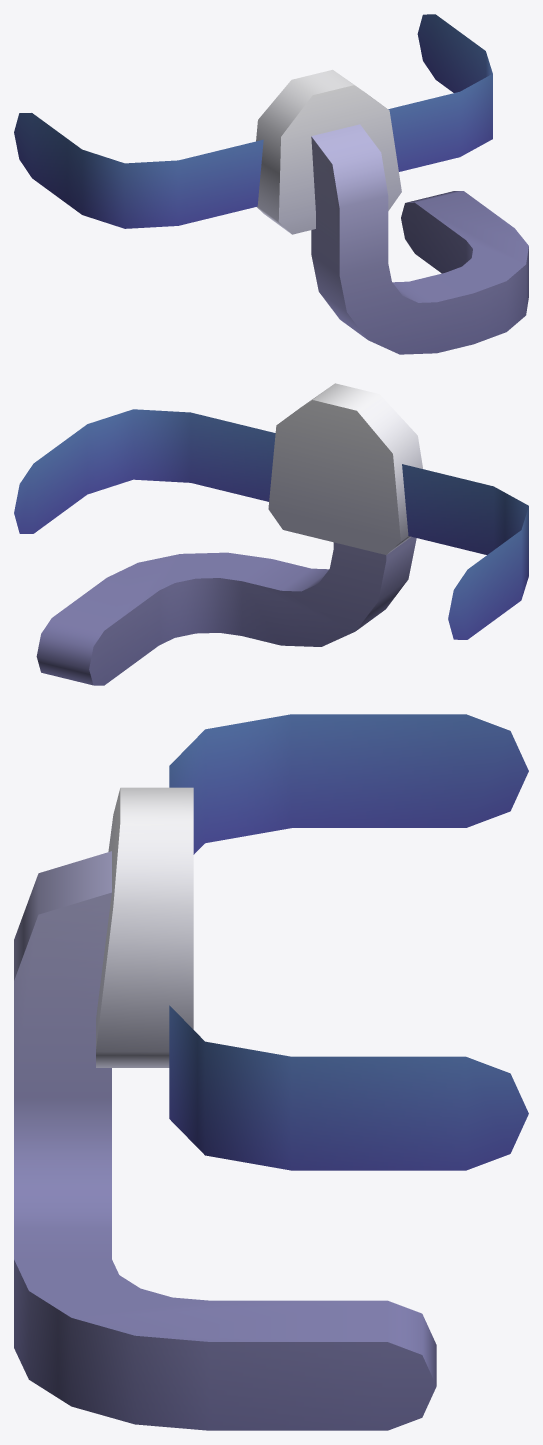
File: aid-mask.obj
The picture shows the model from 3 angles, top to bottom: view 1: azimuth 30°, elevation 25°; view 2: azimuth 150°, elevation 25°; view 3: azimuth 270°, elevation 25°; orthographic projection. The views are drawn at different scales.
Visible parts, largest first — view 1: aid-mask; view 2: aid-mask; view 3: aid-mask.
Part boxes in pixels (x1,y1,x2,y2): aid-mask: [14, 14, 528, 354]; aid-mask: [14, 383, 528, 685]; aid-mask: [14, 714, 528, 1430].
Bounding box in the file's own units: 0.3355 × 0.2026 × 0.2103.
1 material, 1 textured.
